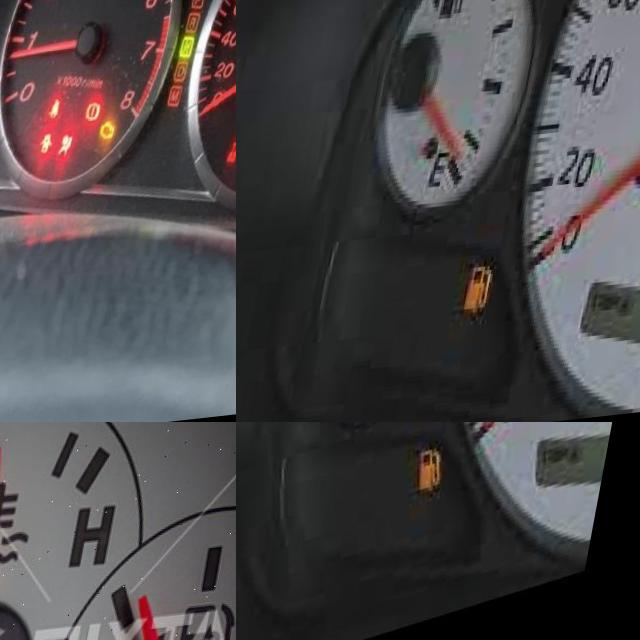Seat Belt: (60, 102, 73, 123)
